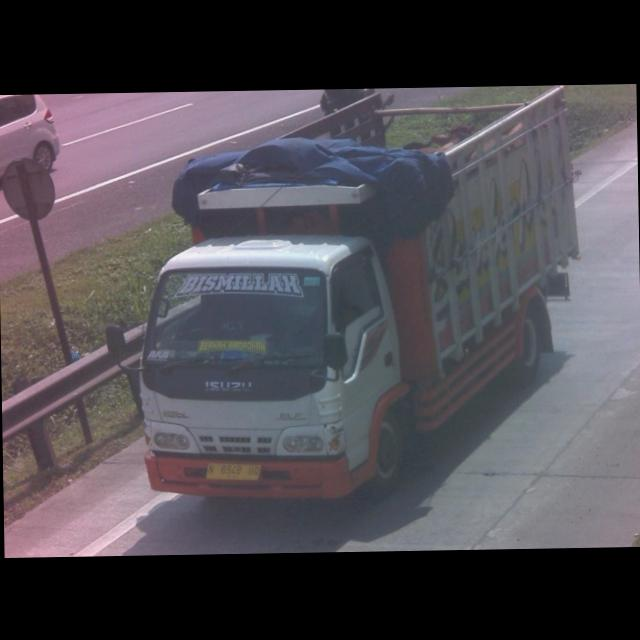plate: (203, 460, 262, 483)
